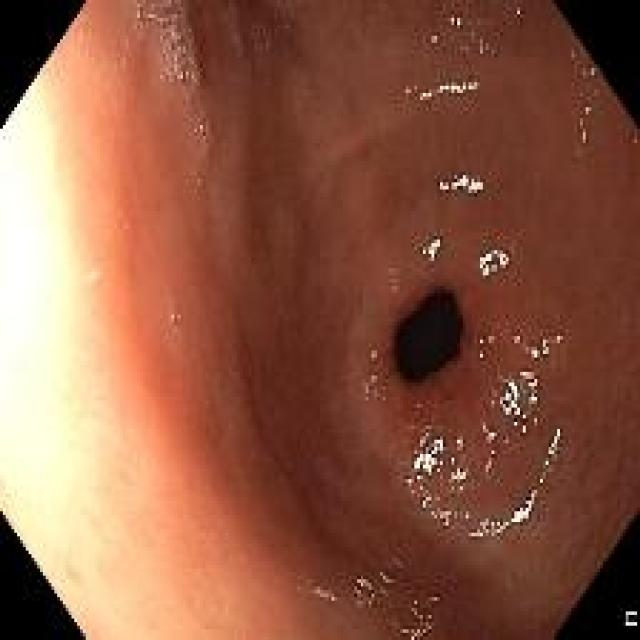bubbles: (159, 31, 202, 101), (136, 5, 183, 26), (194, 117, 211, 145), (378, 567, 398, 590), (478, 36, 498, 57), (352, 574, 370, 596), (576, 128, 592, 146), (403, 78, 417, 96), (364, 591, 380, 606), (426, 418, 443, 432), (410, 597, 423, 615), (329, 587, 341, 606), (278, 8, 292, 24), (424, 592, 440, 606), (440, 396, 452, 414), (419, 622, 433, 637), (257, 37, 270, 52), (568, 45, 579, 62), (124, 36, 136, 49), (576, 116, 588, 129), (629, 132, 638, 148), (589, 65, 600, 78), (459, 43, 470, 56), (170, 310, 180, 324), (594, 84, 604, 98), (513, 6, 523, 20), (399, 624, 411, 635), (583, 102, 593, 114), (469, 28, 479, 39), (192, 176, 200, 189), (579, 65, 587, 76)
contrast: (392, 286, 463, 387)
saturation: (0, 55, 142, 636)
specularity: (413, 434, 446, 475), (510, 488, 539, 527), (476, 248, 508, 280), (497, 378, 521, 420), (468, 519, 509, 539), (420, 238, 442, 265), (437, 82, 476, 95), (430, 510, 455, 529), (546, 430, 562, 458), (527, 377, 539, 405), (448, 173, 467, 190), (450, 465, 466, 482), (466, 177, 482, 193), (418, 484, 431, 501), (447, 14, 463, 27), (520, 368, 537, 378), (540, 338, 549, 356), (530, 345, 539, 360), (438, 179, 448, 191), (485, 431, 495, 443), (418, 89, 432, 97), (530, 414, 539, 426), (520, 421, 528, 434), (404, 476, 412, 488), (513, 335, 521, 346), (451, 509, 459, 520), (430, 32, 437, 44), (538, 472, 545, 484), (520, 411, 528, 421), (448, 456, 457, 464), (456, 439, 462, 451), (415, 475, 423, 483), (512, 420, 520, 428), (555, 333, 562, 342), (541, 457, 548, 466), (478, 351, 484, 361), (421, 498, 427, 507), (479, 338, 485, 344), (488, 335, 492, 343)
